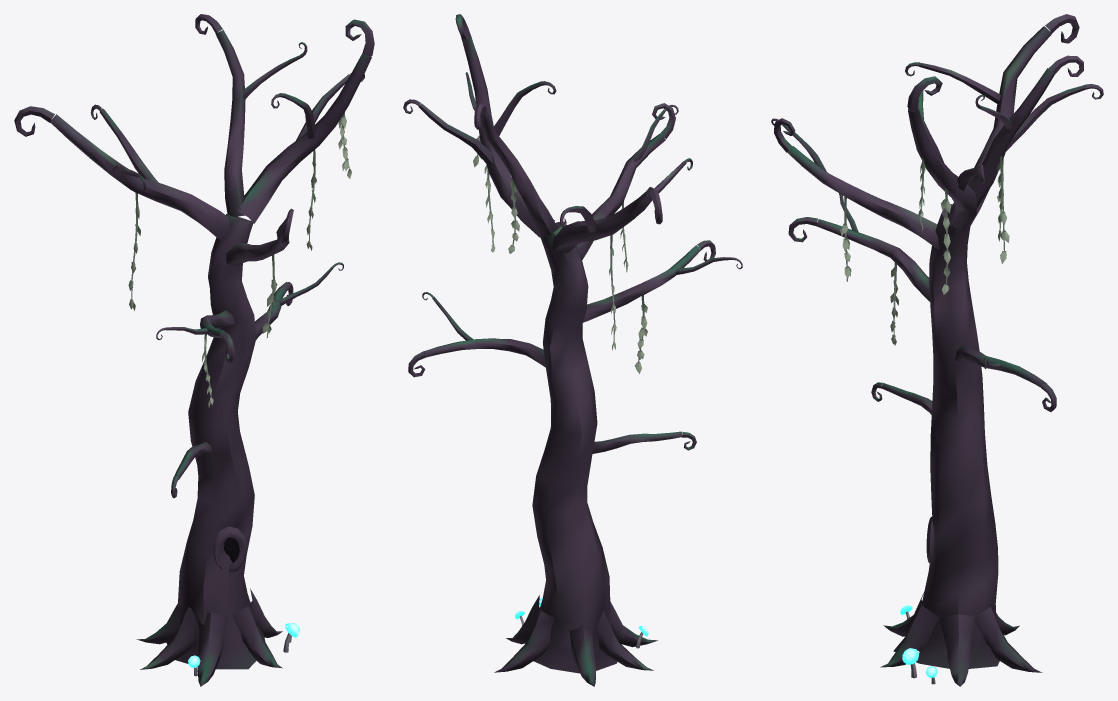
File: spooky_tree_tall.glb
3 views of the same model, side by side, from view 1: azimuth 30°, elevation 25°; view 2: azimuth 150°, elevation 25°; view 3: azimuth 270°, elevation 25° (orthographic). The views are drawn at different scales.
Visible parts, largest first — view 1: spooky_tree_tall; view 2: spooky_tree_tall; view 3: spooky_tree_tall.
Boxes of the visible parts, x1=… form: spooky_tree_tall: x1=14, y1=14, x2=374, y2=686; spooky_tree_tall: x1=403, y1=14, x2=742, y2=686; spooky_tree_tall: x1=771, y1=14, x2=1103, y2=686.
Size of the model in its own units: 5.29 by 10 by 4.71.
